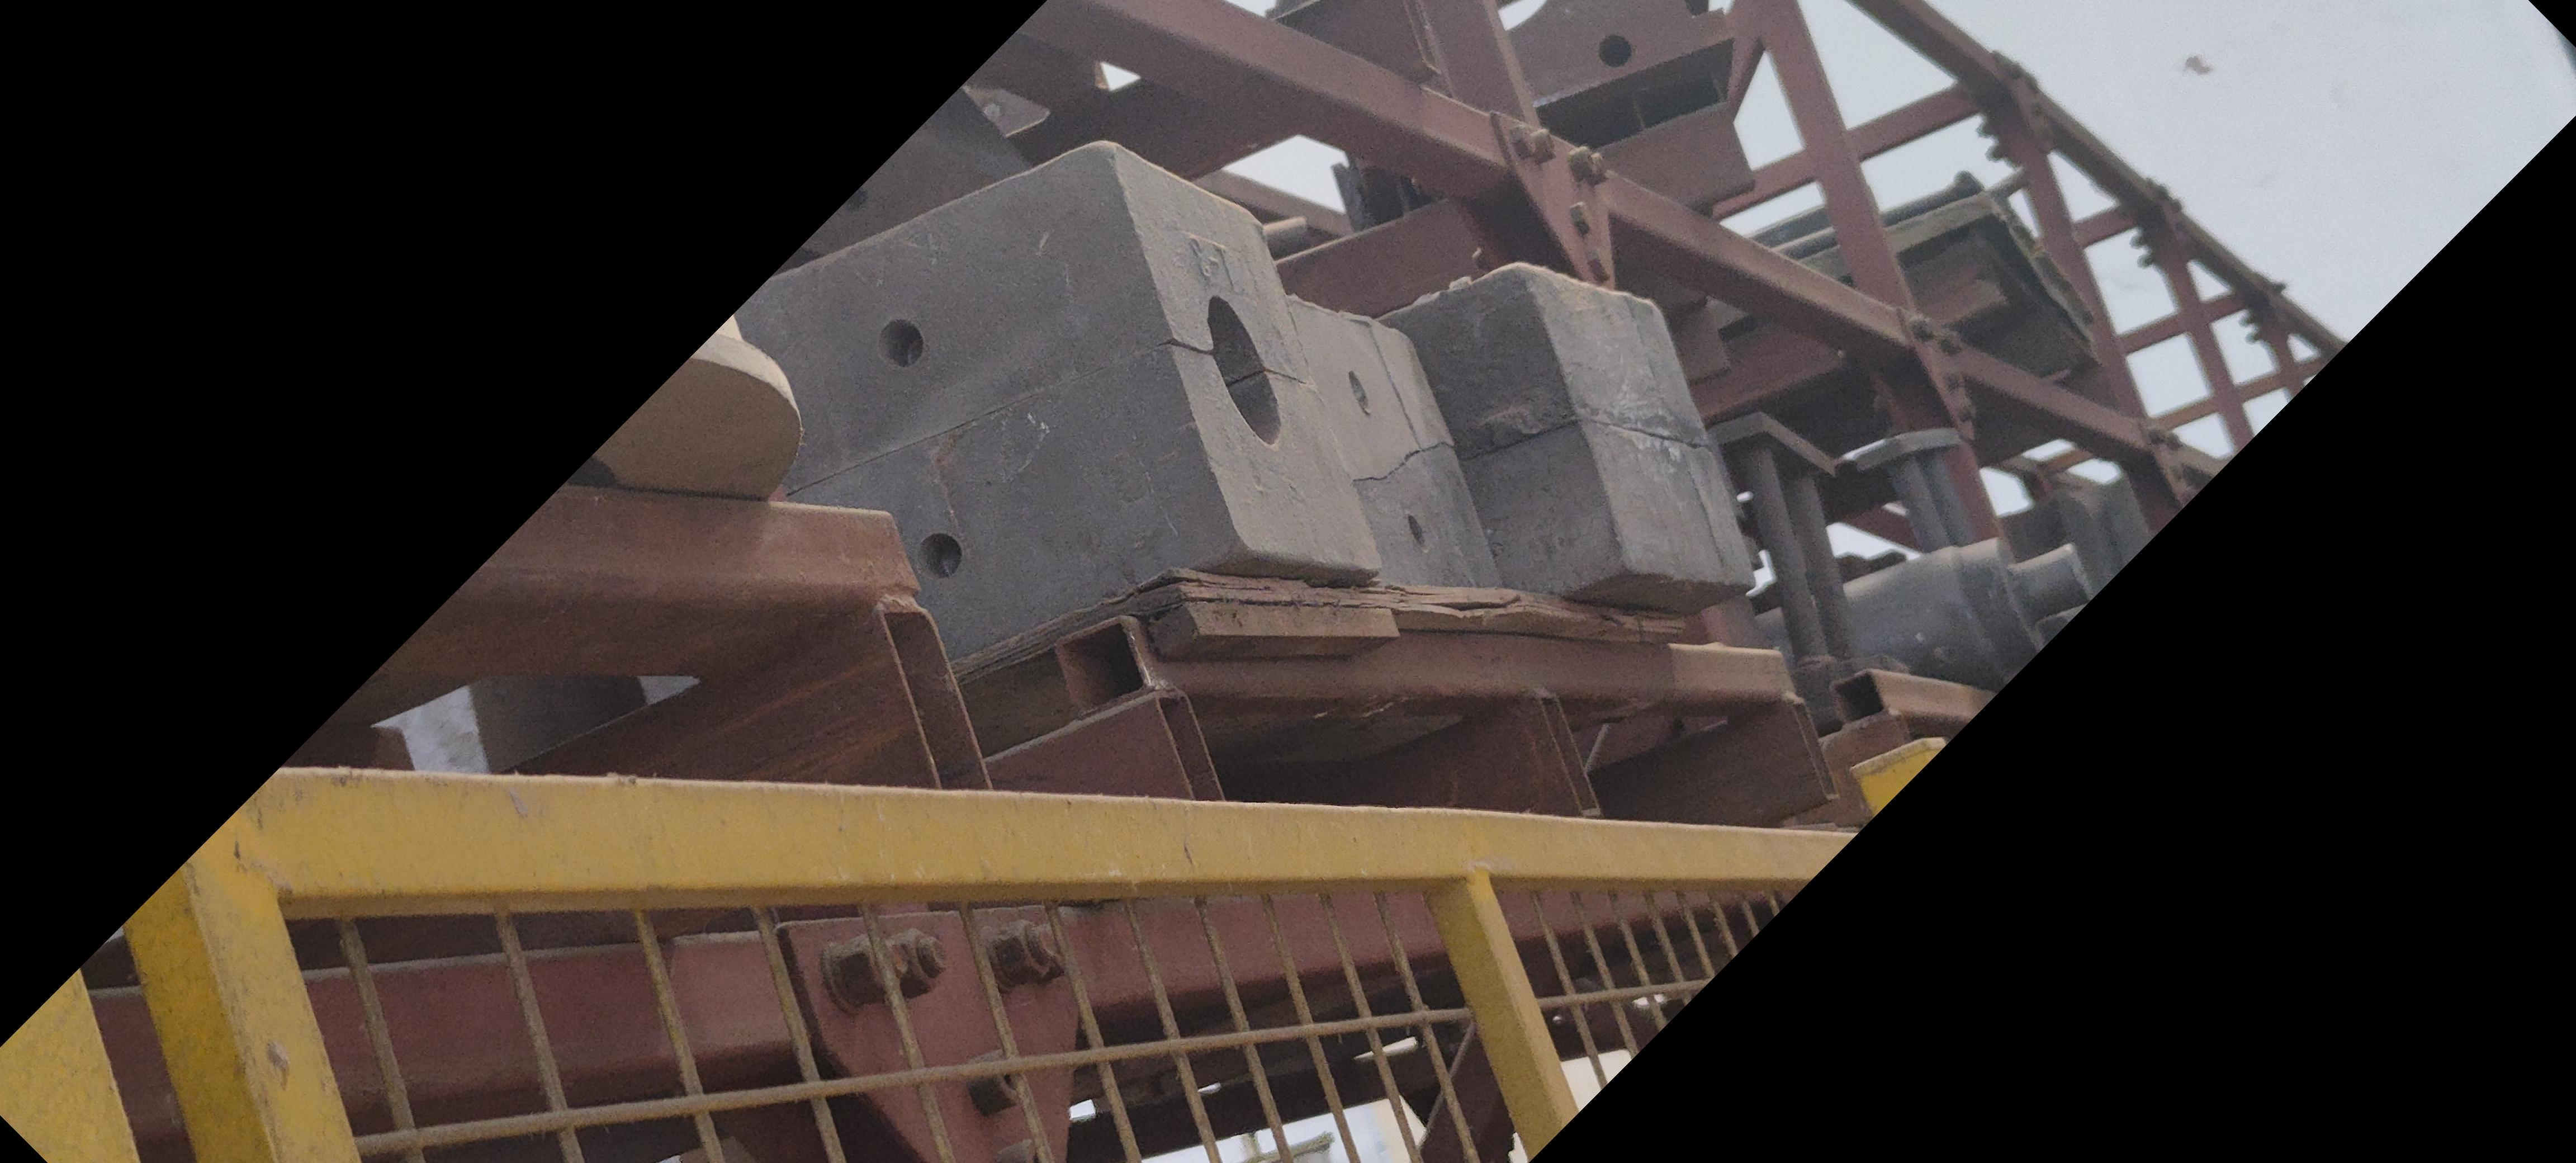pouring hole: (1207, 297, 1283, 448)
